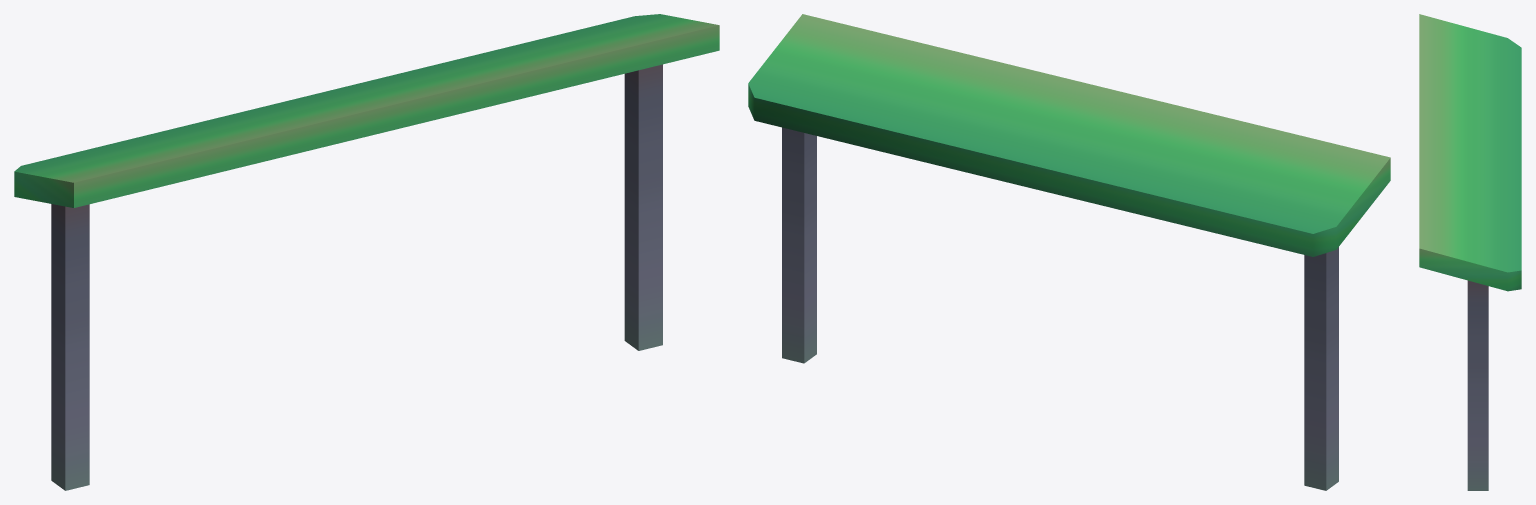
Rendered from com_detail_awning_wide.glb.
3 renders of one model, left to right at view 1: azimuth 30°, elevation 25°; view 2: azimuth 150°, elevation 25°; view 3: azimuth 270°, elevation 25°, orthographic. The views are drawn at different scales.
Parts seen in each view (by area): view 1: detail-awning-wide; view 2: detail-awning-wide; view 3: detail-awning-wide.
Boxes of the visible parts, <box> form: detail-awning-wide: <box>14,14,719,490</box>; detail-awning-wide: <box>748,14,1390,490</box>; detail-awning-wide: <box>1419,14,1521,490</box>.
Bounding box in the file's own units: 0.8 × 0.4 × 0.1479.
Materials: 1 (1 with a texture image).
